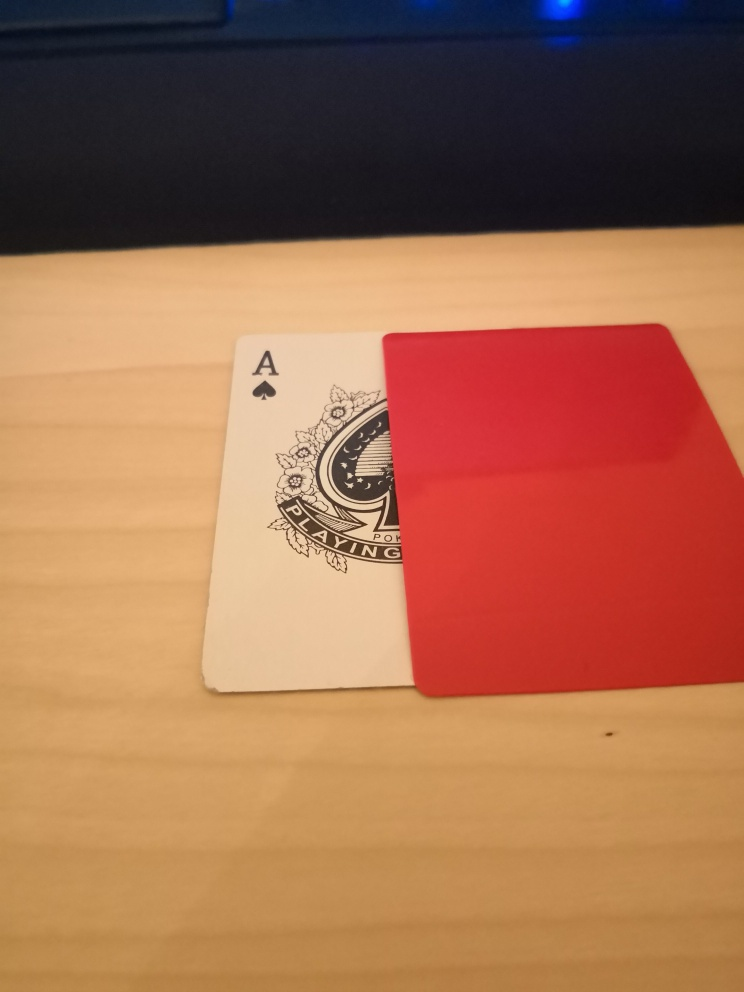ace: (201, 331, 416, 694)
